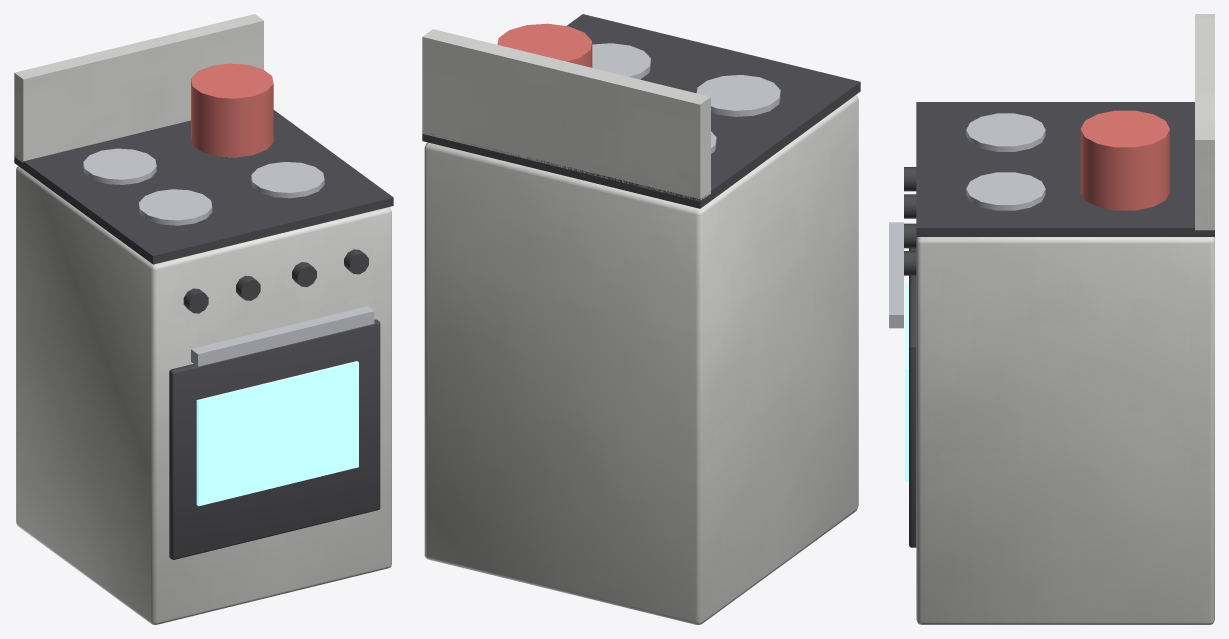
3 renders of one model, left to right at view 1: azimuth 30°, elevation 25°; view 2: azimuth 150°, elevation 25°; view 3: azimuth 270°, elevation 25°, orthographic. The views are drawn at different scales.
Parts seen in each view (by area): view 1: Decor_stove_oven; view 2: Decor_stove_oven; view 3: Decor_stove_oven.
Part boxes in pixels (x1=…): Decor_stove_oven: x1=14, y1=14, x2=393, y2=624; Decor_stove_oven: x1=422, y1=14, x2=860, y2=624; Decor_stove_oven: x1=889, y1=14, x2=1214, y2=624.
Bounding box in the file's own units: 0.6 × 1.08 × 0.655.
Materials: 5 (1 with a texture image).
